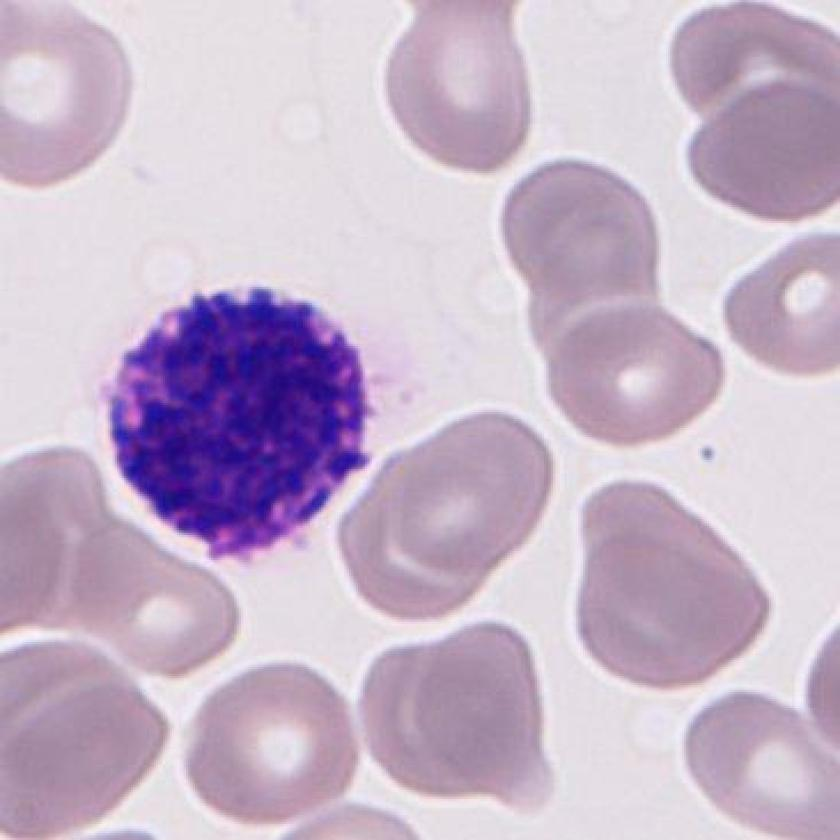basophil: (86, 263, 377, 566)
